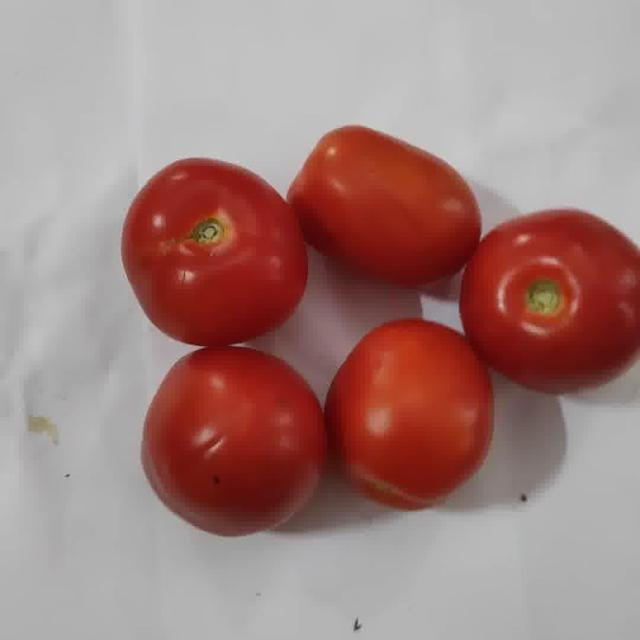Tomato: (122, 158, 306, 345), (143, 348, 326, 535), (459, 210, 639, 393), (325, 319, 493, 510), (287, 126, 481, 286)
